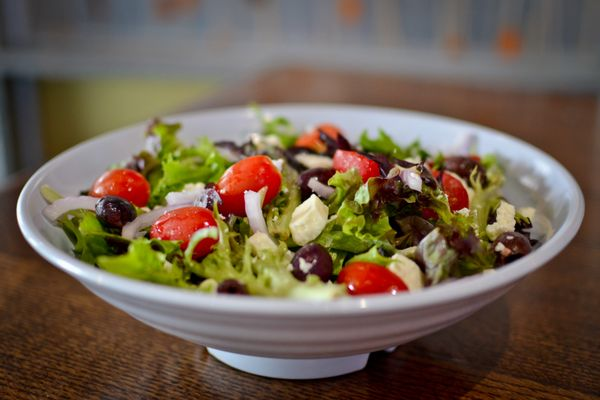sushi: (10, 108, 556, 366)
